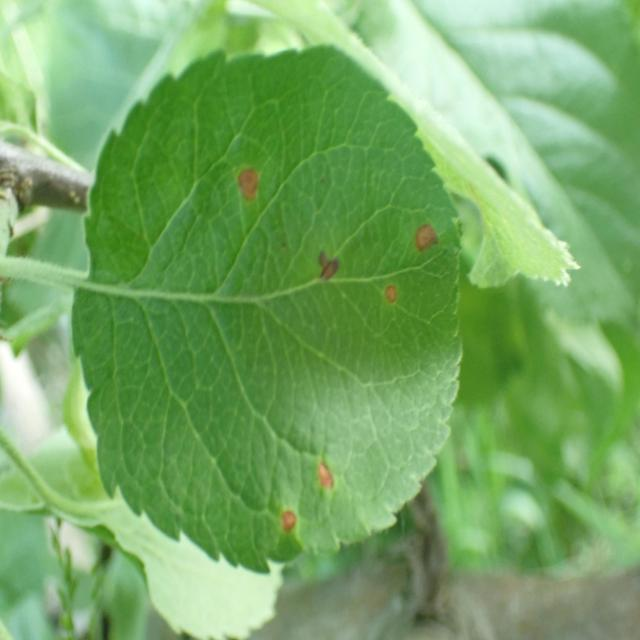Black Rot: (403, 201, 447, 283), (226, 149, 272, 220), (311, 238, 344, 290), (273, 492, 306, 542), (306, 453, 338, 498), (379, 272, 402, 323)
